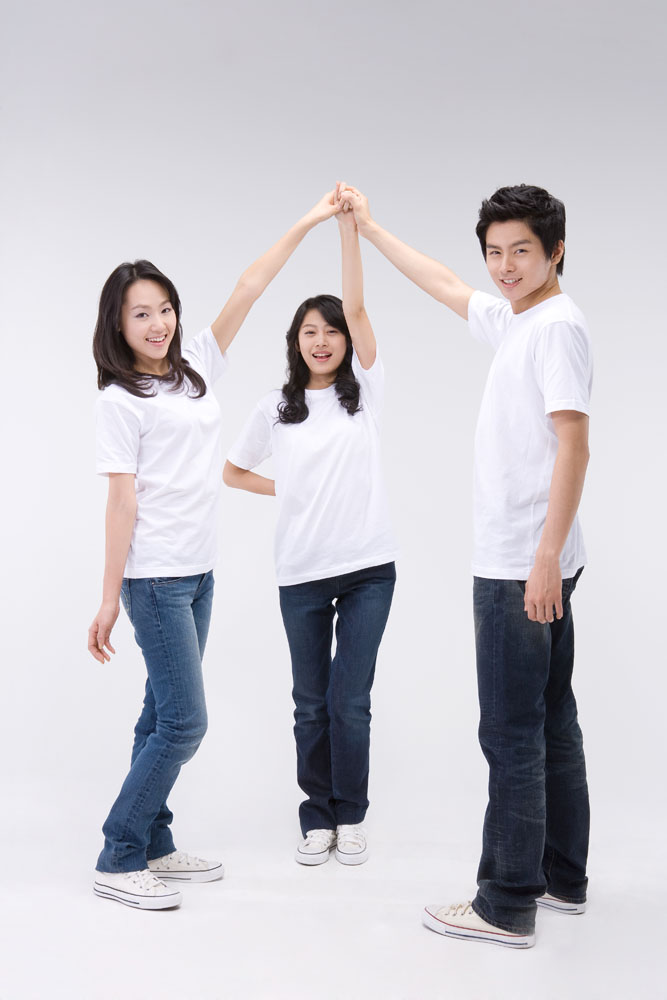handsup: (330, 116, 625, 962), (70, 190, 343, 904), (223, 159, 402, 873)
